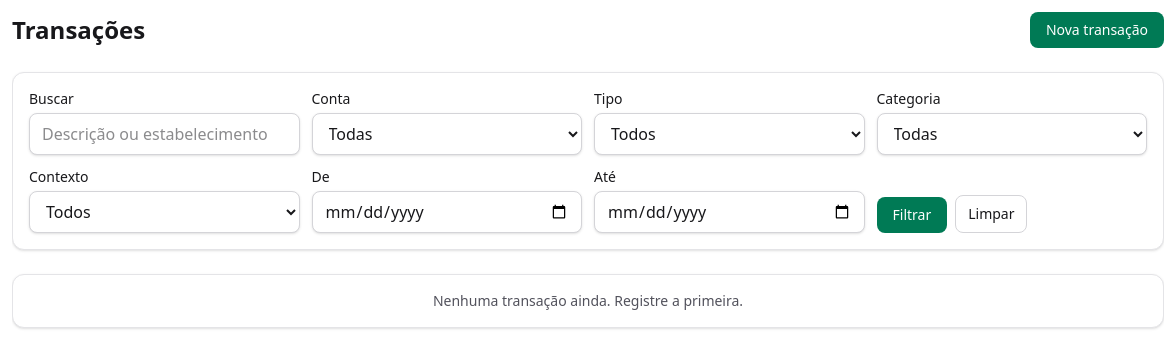
TransactionsView › estado vazio, com e sem filtros
The width and height of the screenshot is (1176, 346).
Check: the text "Nenhuma transação ainda. Registre a primeira." is shown, box [12,274,1164,328]
In the field labelled "Buscar": (164, 134) [29,113,300,155], type "xyz"
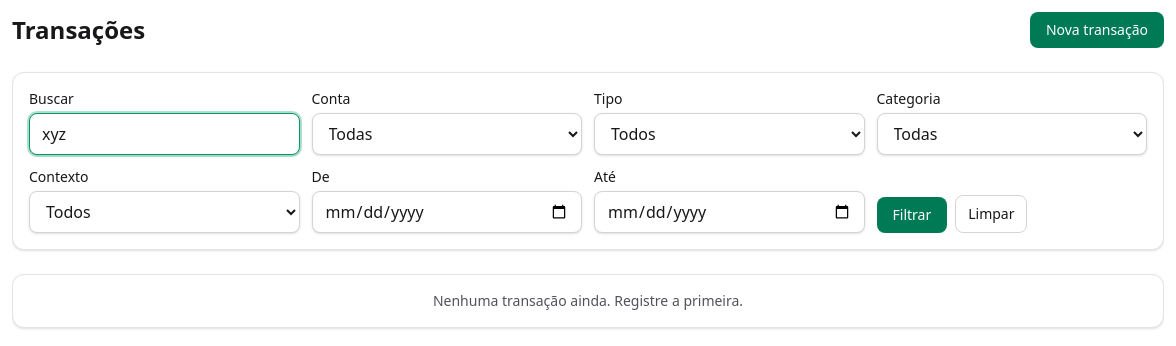
Click the button "Filtrar": (912, 215) [876,197,947,233]
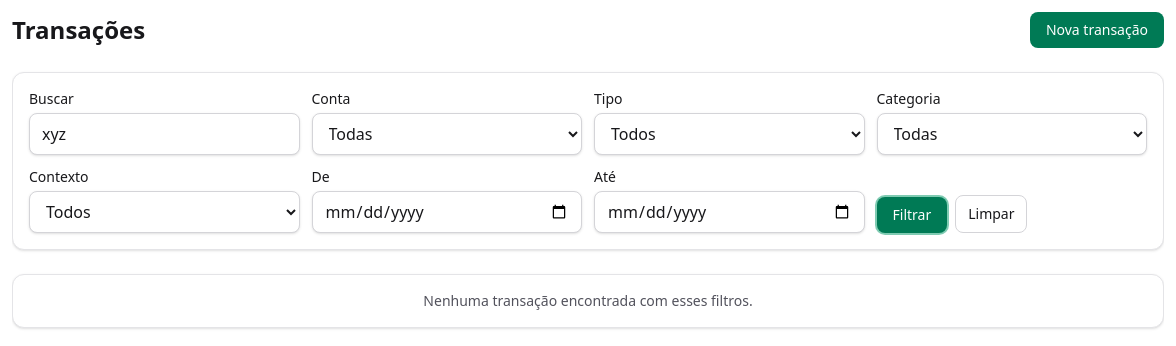
Check: the text "Nenhuma transação encontrada com esses filtros." is shown, box [12,274,1164,328]
